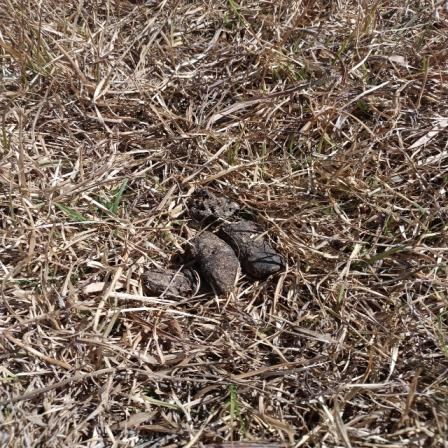dog-poop: (132, 183, 298, 312)
